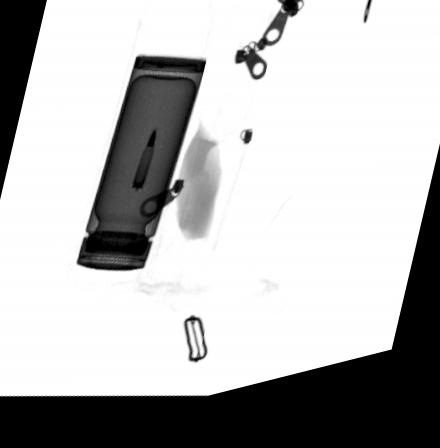Bullet: (131, 133, 156, 197)
